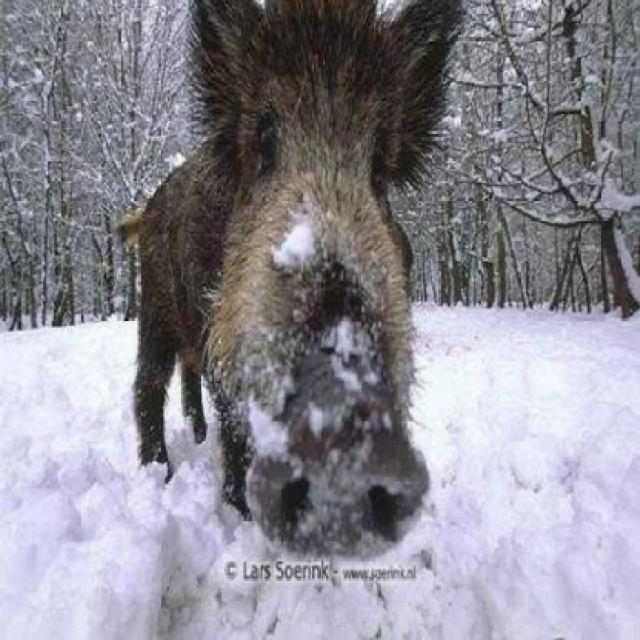pig: (100, 0, 506, 571)
